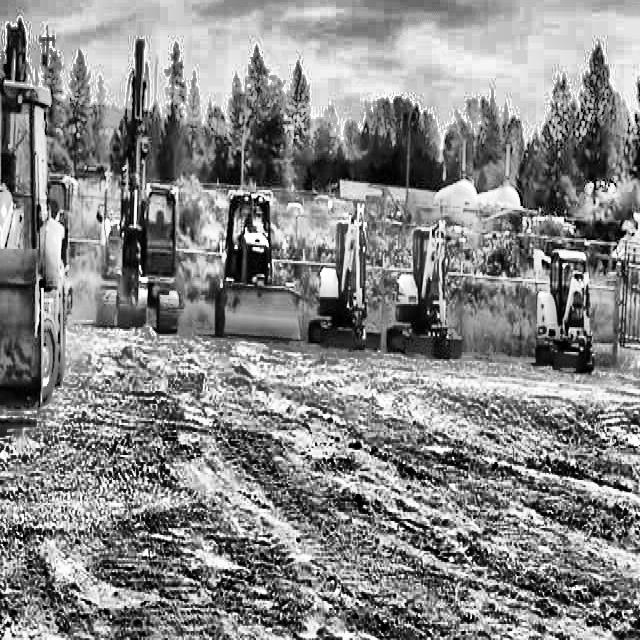buldozerpayloadergrader: (212, 185, 304, 341)
excavator: (97, 39, 183, 333), (388, 217, 461, 352), (311, 202, 376, 348), (534, 236, 593, 366)
